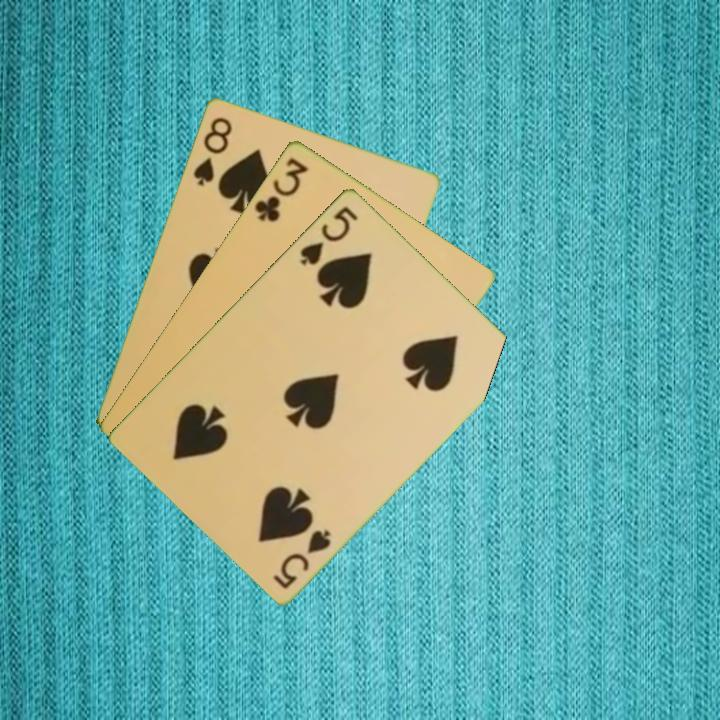3c: (250, 153, 311, 225)
5s: (296, 202, 361, 268), (269, 525, 334, 591)
8s: (189, 113, 235, 188)
